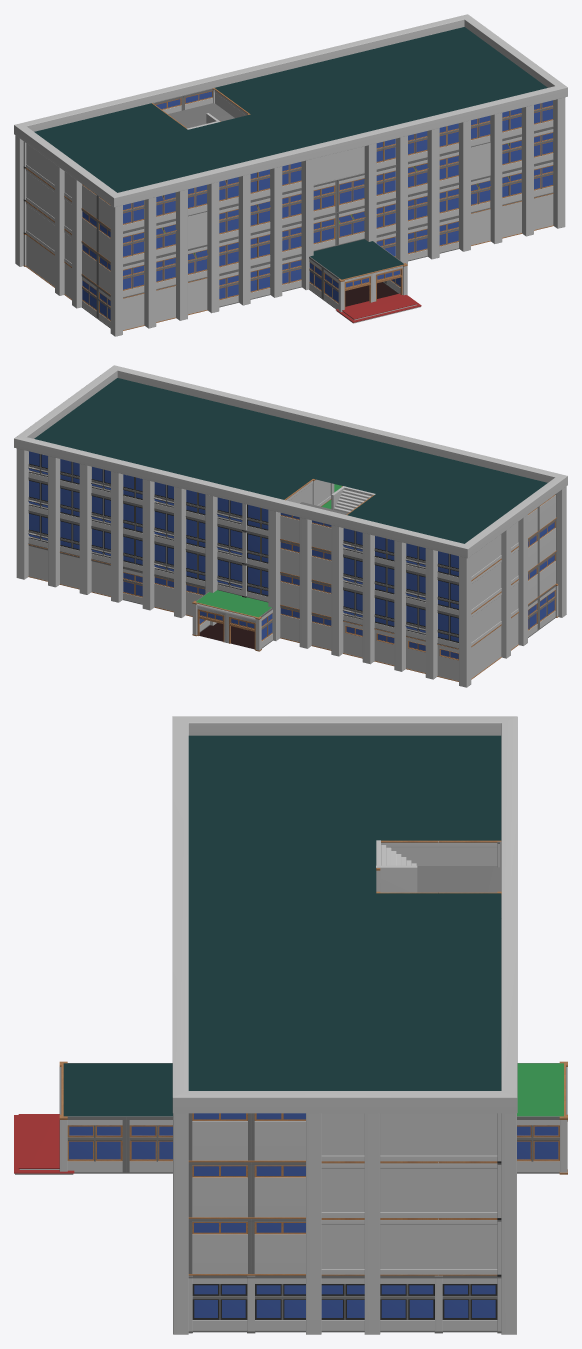
The model's file is SM_mainbuilding.fbx.
3 renders of one model, top to bottom at view 1: azimuth 30°, elevation 25°; view 2: azimuth 150°, elevation 25°; view 3: azimuth 270°, elevation 25°, orthographic. The views are drawn at different scales.
Parts seen in each view (by area): view 1: mainbuilding_01; view 2: mainbuilding_01; view 3: mainbuilding_01.
Part boxes in pixels (x1,y1,x2,y2): mainbuilding_01: (14,14,567,336); mainbuilding_01: (14,365,567,687); mainbuilding_01: (14,716,567,1334).
Size of the model in its own units: 2273 by 666 by 1395.
